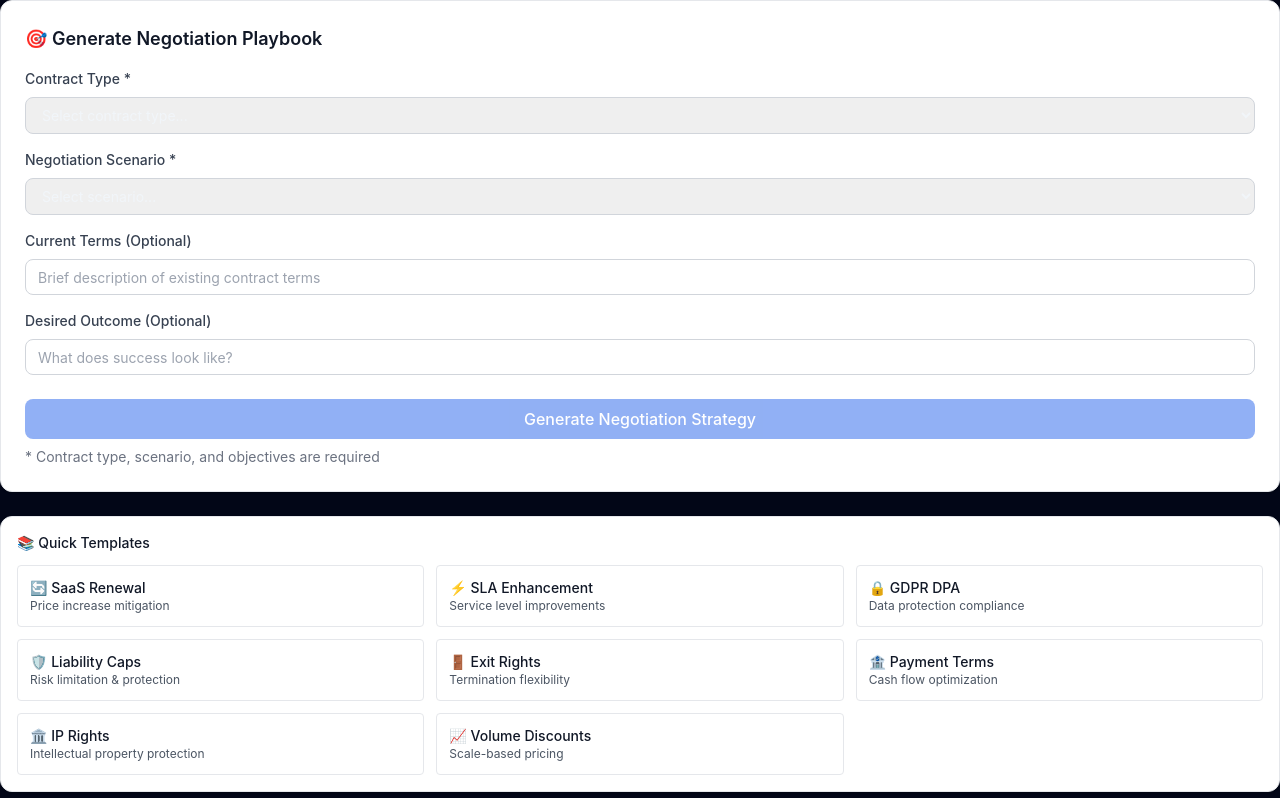
Test: PlaybookGenerator › Template Selection › should show empty state when scenario has no objectives
The image size is (1280, 798).
// Select the scenario
Step 1. Select "Service Level Agreement Enhancement" in the dropdown below "Negotiation Scenario *" → point(640, 196), box [25, 178, 1255, 215]
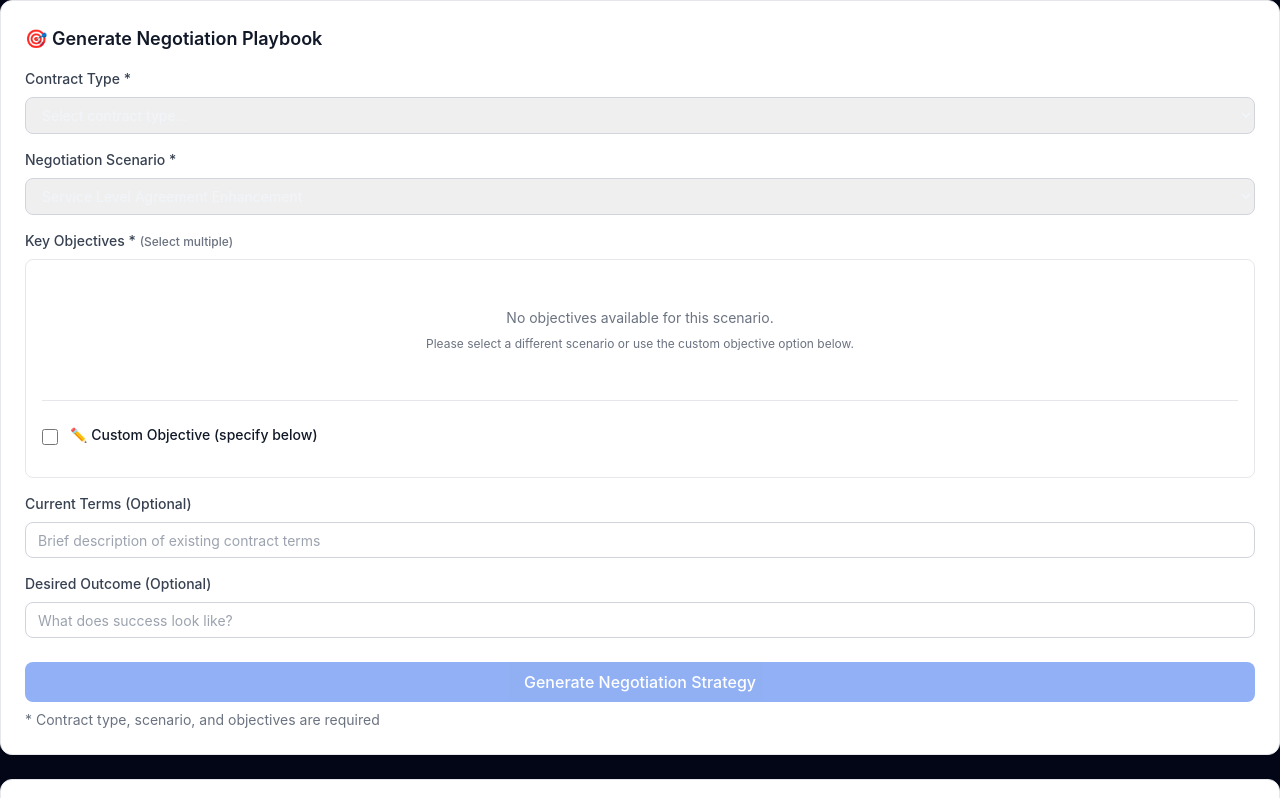
Now the text "No objectives available for this scenario." is shown, box [506, 309, 774, 326]
